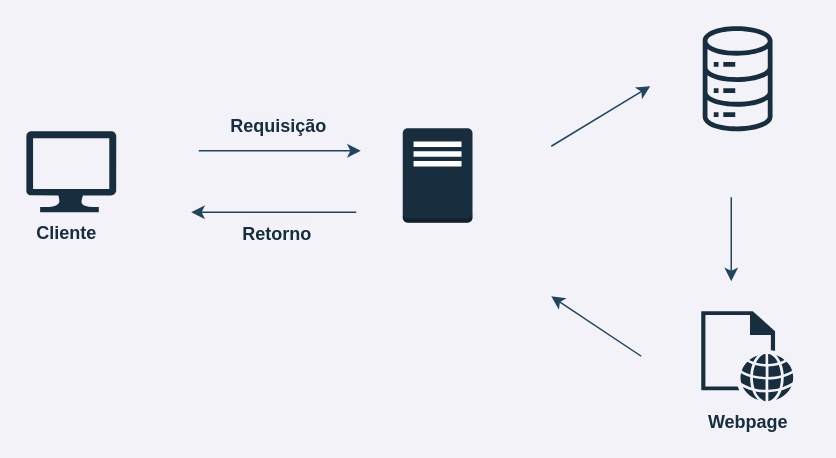
This 836x458 diagram has some shape labels left out. Here are the shapes that lost their labels. From the top down, the centre of each, then its label:
At [736,78]: "Banco de Dados".
At [436,175]: "WebServer".
